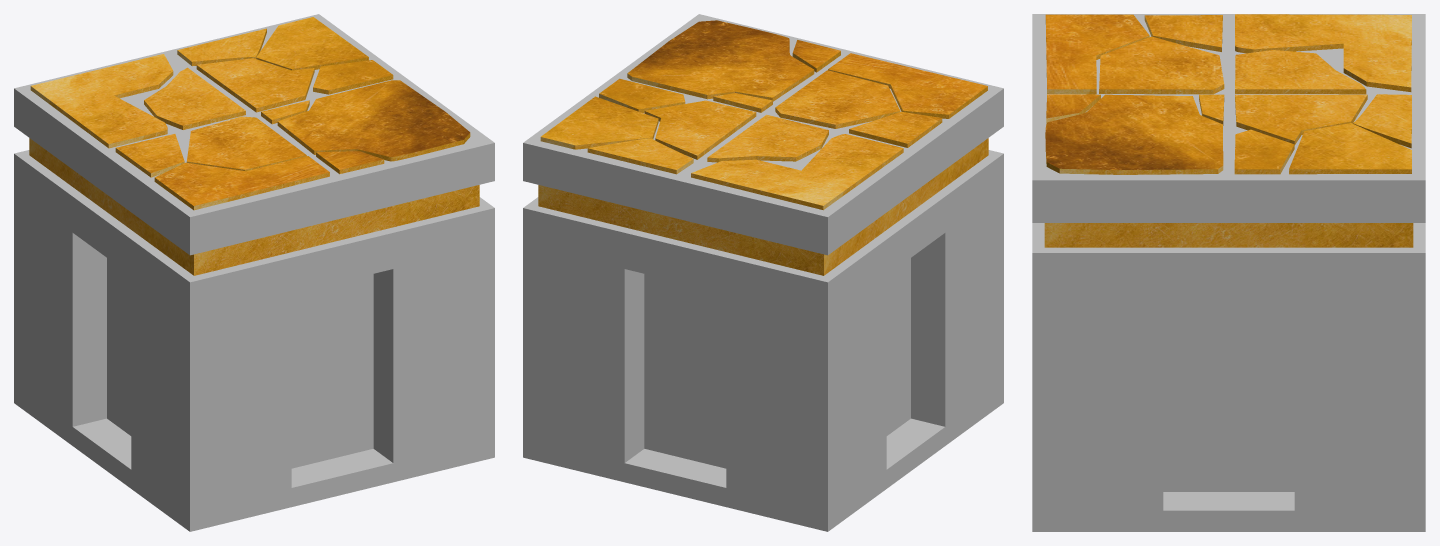
File: bloc1x1_01.FBX
3 views of the same model, side by side, from view 1: azimuth 30°, elevation 25°; view 2: azimuth 150°, elevation 25°; view 3: azimuth 270°, elevation 25° (orthographic). The views are drawn at different scales.
Visible parts, largest first — view 1: bloc1x1_01; view 2: bloc1x1_01; view 3: bloc1x1_01.
Part boxes in pixels (x1,y1,x2,y2): bloc1x1_01: [14, 14, 494, 531]; bloc1x1_01: [523, 14, 1003, 531]; bloc1x1_01: [1032, 14, 1425, 531].
Size of the model in its own units: 39.37 by 39.37 by 39.37.
